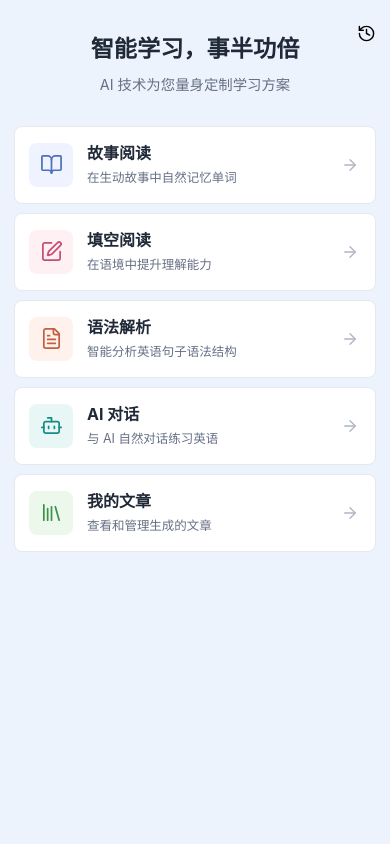
AgentPage › AGENT-LEARNER-001 exposes every established AI learning workflow
Expected: the button "故事阅读 在生动故事中自然记忆单词" is shown, [14, 126, 376, 204]
Expected: the button "填空阅读 在语境中提升理解能力" is shown, [14, 213, 376, 291]
Click the button named "打开会话历史". click: [366, 35]
box: [357, 24, 376, 46]
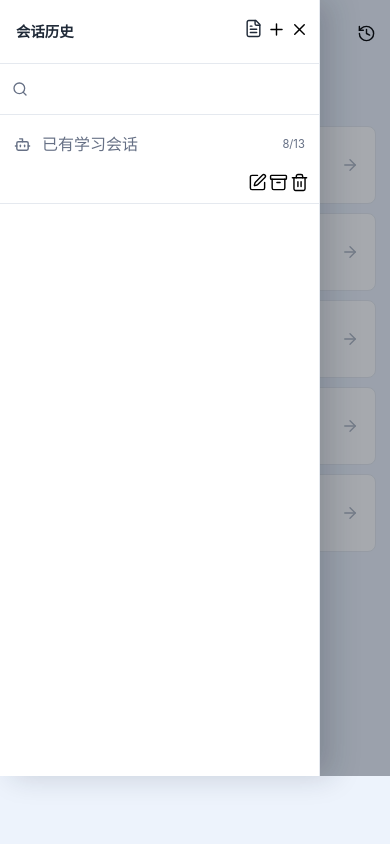
Result: the dialog "会话历史" is shown
Result: the text "已有学习会话" is shown at [42, 134, 138, 154]
